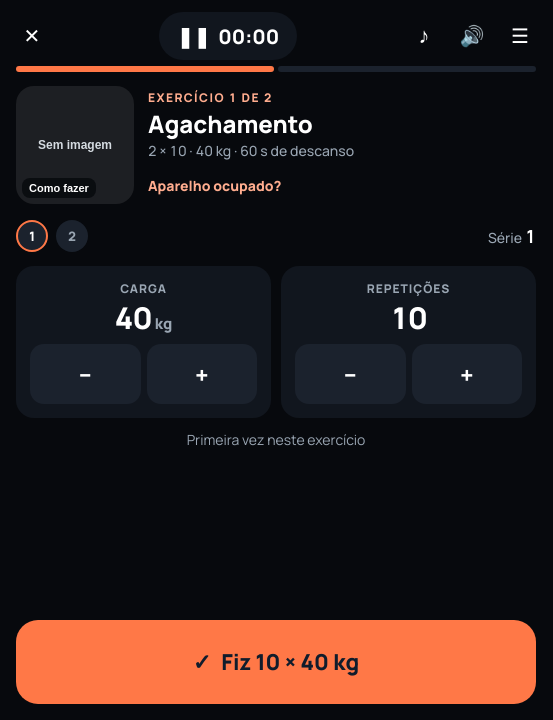
LiveWorkout (FIT-153) › falha ao salvar desfaz a série na tela
Click the button "✓ Fiz 10 × 40 kg". click: point(276, 662)
box: [16,620,536,704]
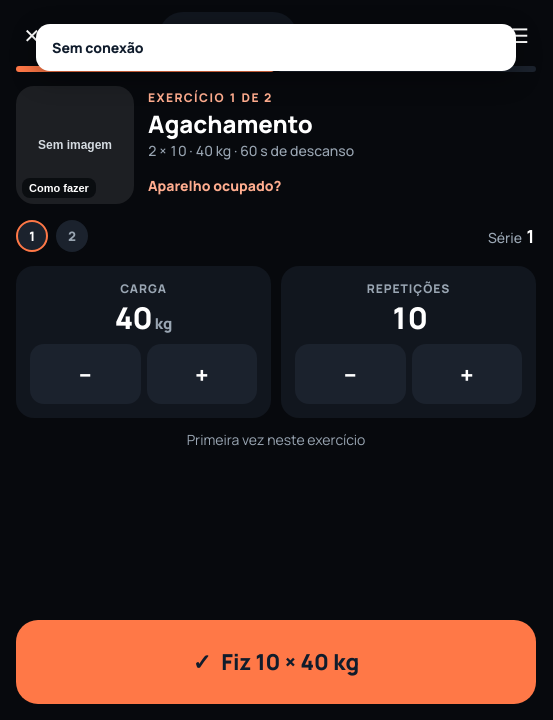
Check: the list named "0 de 2 séries feitas" is shown, box [16,220,88,252]
Check: the text "Sem conexão" is shown, box [52,38,144,57]
